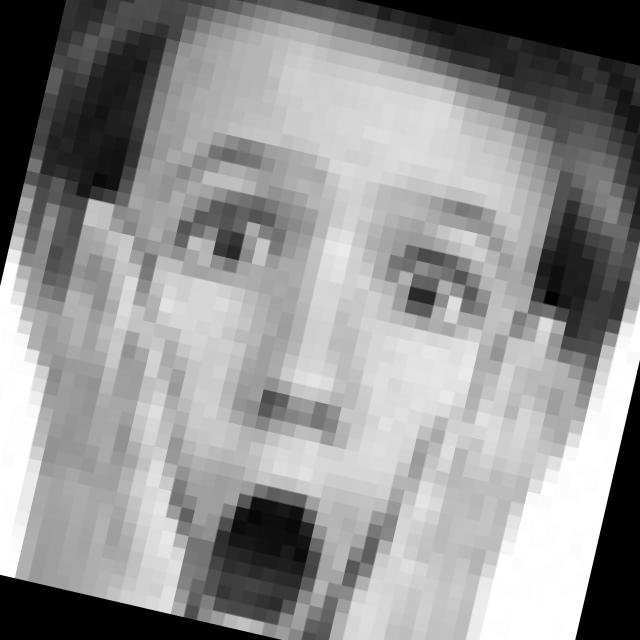surprise: (68, 121, 537, 640)
